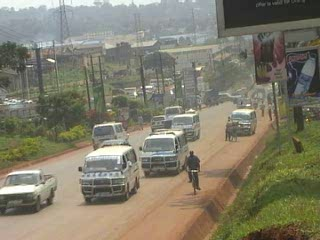Car: (96, 138, 136, 156), (147, 112, 170, 131)
